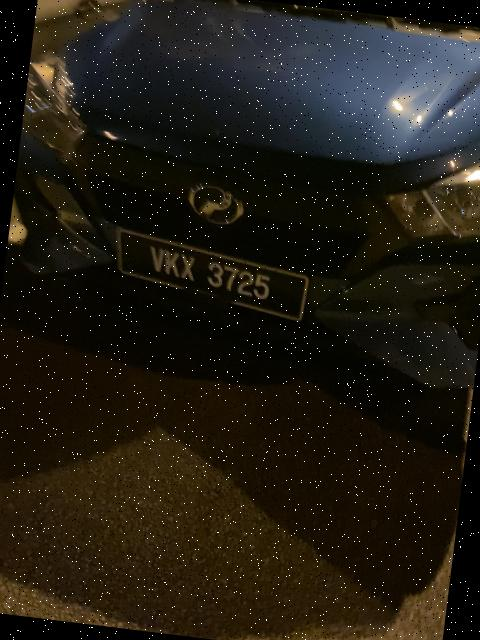License_Plate: (107, 224, 315, 334)
